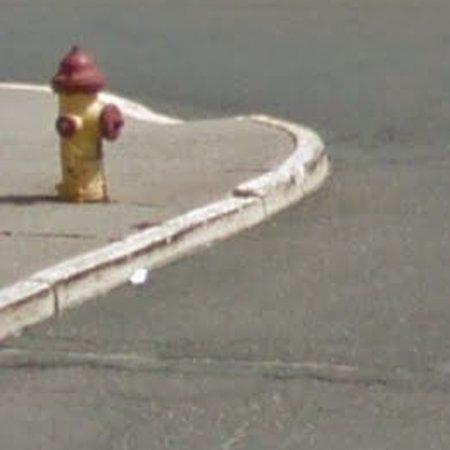a fire hydrant: (51, 46, 124, 202)
